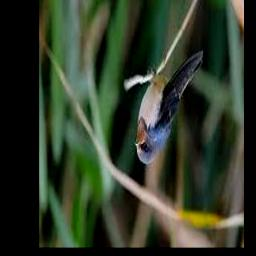Swallow: (136, 51, 206, 164)
